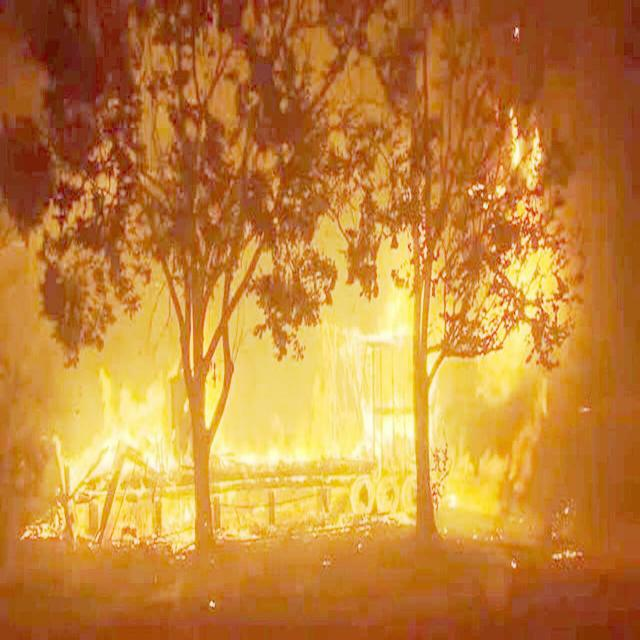api: (65, 294, 230, 488), (334, 275, 422, 464), (224, 382, 350, 477), (431, 333, 442, 458), (511, 123, 532, 174)
